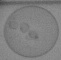small: (27, 30, 39, 39), (21, 21, 29, 33), (8, 20, 18, 29)
